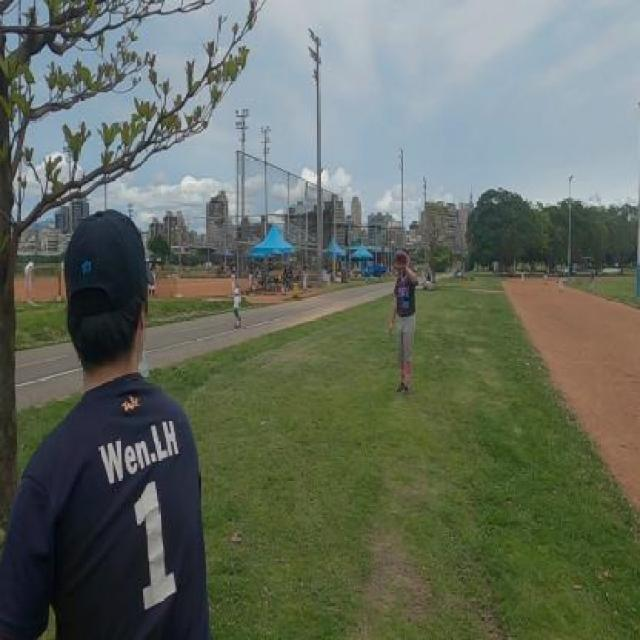baseball: (391, 238, 395, 248)
